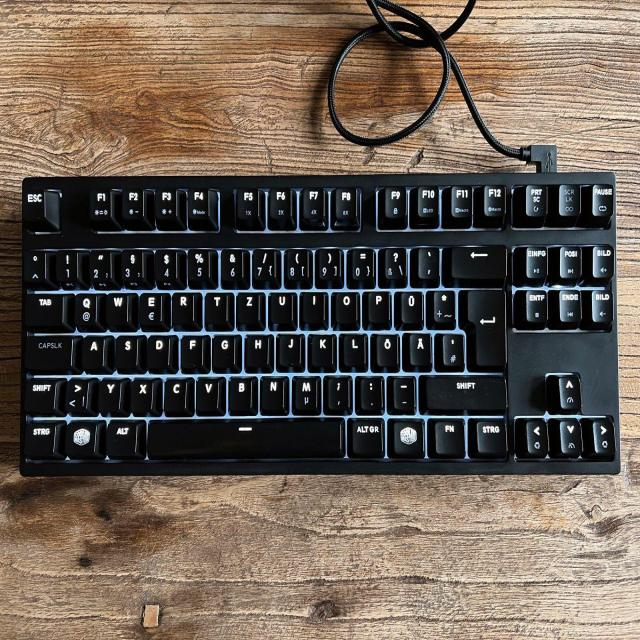0: (349, 244, 376, 287)
1: (54, 248, 78, 282)
2: (89, 246, 112, 285)
3: (120, 246, 143, 283)
4: (154, 245, 179, 281)
5: (186, 245, 213, 286)
6: (219, 246, 249, 287)
7: (251, 245, 278, 285)
8: (283, 245, 312, 287)
9: (314, 245, 343, 286)
a: (81, 334, 104, 368)
accent: (415, 244, 439, 280)
ae: (408, 330, 431, 365)
alt-left: (105, 417, 138, 456)
altgr-right: (348, 415, 384, 455)
b: (227, 373, 257, 412)
c: (163, 374, 189, 412)
caret: (23, 249, 46, 281)
comma: (324, 373, 351, 411)
d: (146, 332, 169, 369)
del: (449, 244, 506, 278)
e: (138, 290, 162, 325)
enter: (462, 286, 506, 369)
f: (180, 332, 203, 369)
g: (212, 332, 235, 368)
h: (244, 331, 270, 368)
hash: (440, 330, 463, 368)
i: (300, 289, 326, 323)
j: (277, 330, 300, 367)
k: (308, 331, 335, 368)
keyboard: (18, 169, 622, 478)
l: (340, 330, 366, 367)
less: (64, 375, 88, 412)
m: (291, 373, 320, 412)
minus: (390, 373, 415, 410)
n: (259, 373, 288, 412)
o: (332, 289, 359, 323)
oe: (375, 331, 398, 366)
p: (366, 288, 390, 322)
plus: (432, 287, 455, 323)
point: (358, 373, 383, 410)
q: (73, 290, 96, 326)
r: (171, 289, 198, 325)
s: (115, 334, 136, 367)
shift-left: (23, 376, 55, 412)
shift-lock: (25, 332, 72, 370)
shift-right: (423, 372, 506, 410)
space: (146, 416, 344, 457)
ss: (380, 244, 407, 284)
strg-left: (23, 419, 58, 456)
strg-right: (473, 416, 507, 454)
t: (204, 289, 230, 326)
tab: (24, 293, 63, 324)
u: (268, 290, 294, 324)
ue: (399, 288, 422, 323)
v: (194, 374, 224, 413)
w: (105, 290, 129, 325)
x: (130, 375, 152, 411)
y: (97, 376, 121, 411)
z: (235, 290, 261, 324)
